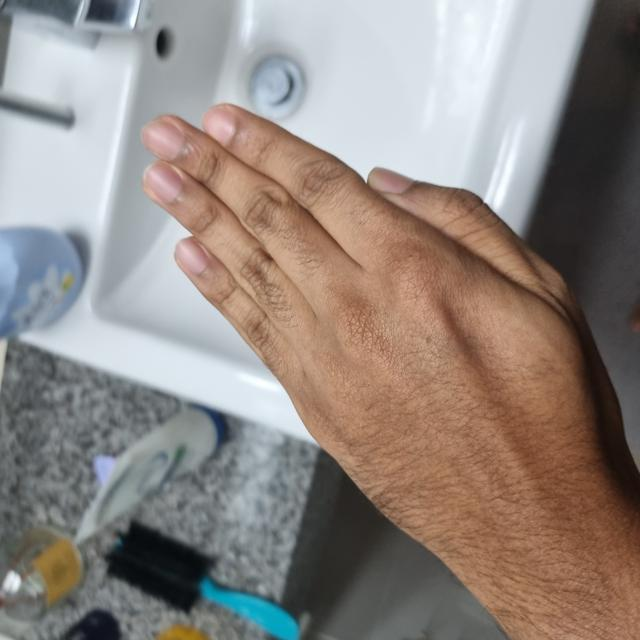Paper: (62, 144, 536, 600)
